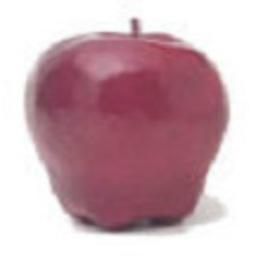apple: (24, 24, 228, 230)
